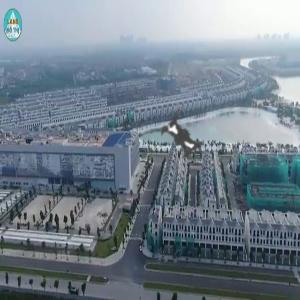drone: (130, 87, 237, 194)
